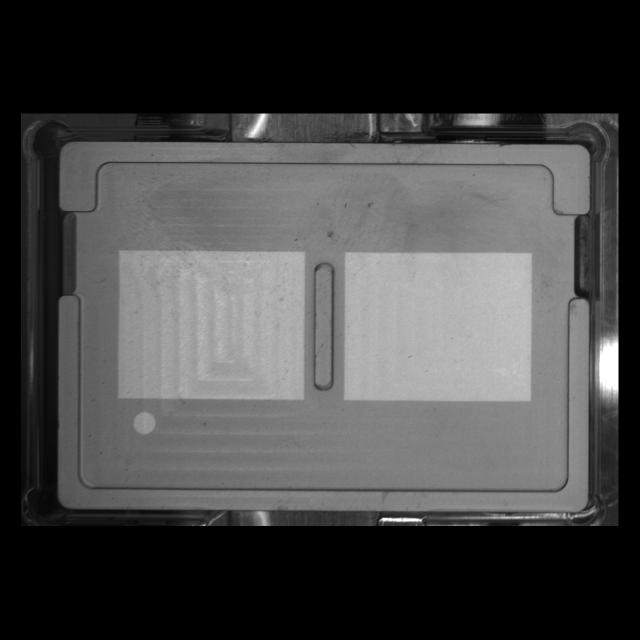door: (51, 132, 603, 222)
point: (128, 408, 160, 438)
